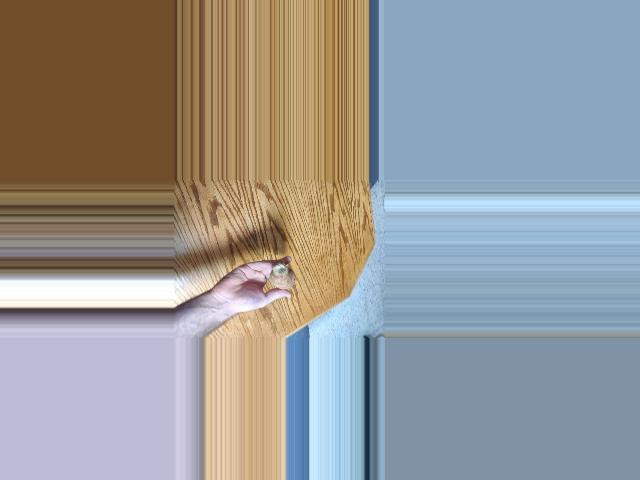sweet_potato: (270, 265, 297, 290)
